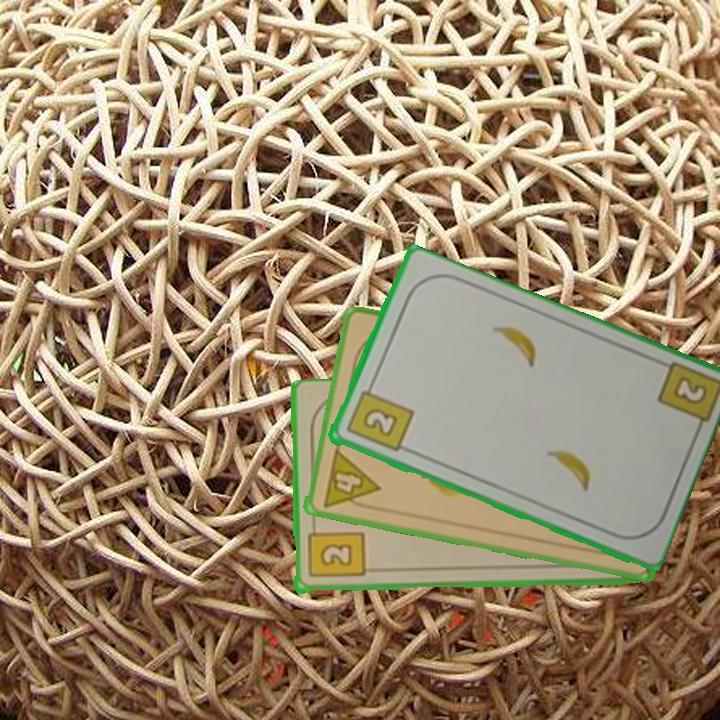2b: (342, 379, 416, 455), (304, 520, 366, 581), (668, 373, 710, 408)
4p: (319, 445, 382, 514)
